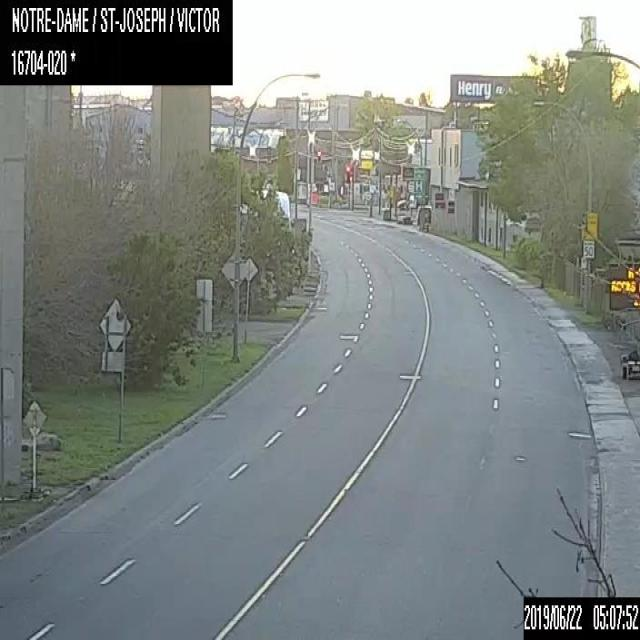construction: (608, 230, 639, 381)
vehicle: (416, 206, 431, 224)
